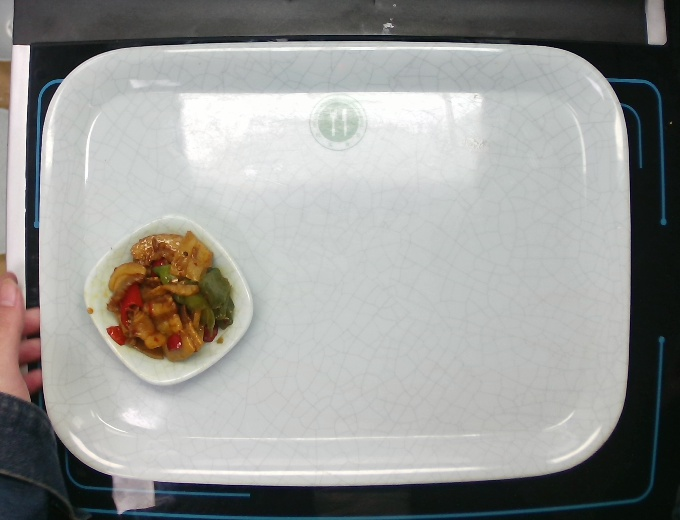JYsf-Si_Fang_Die: (80, 214, 255, 388)
